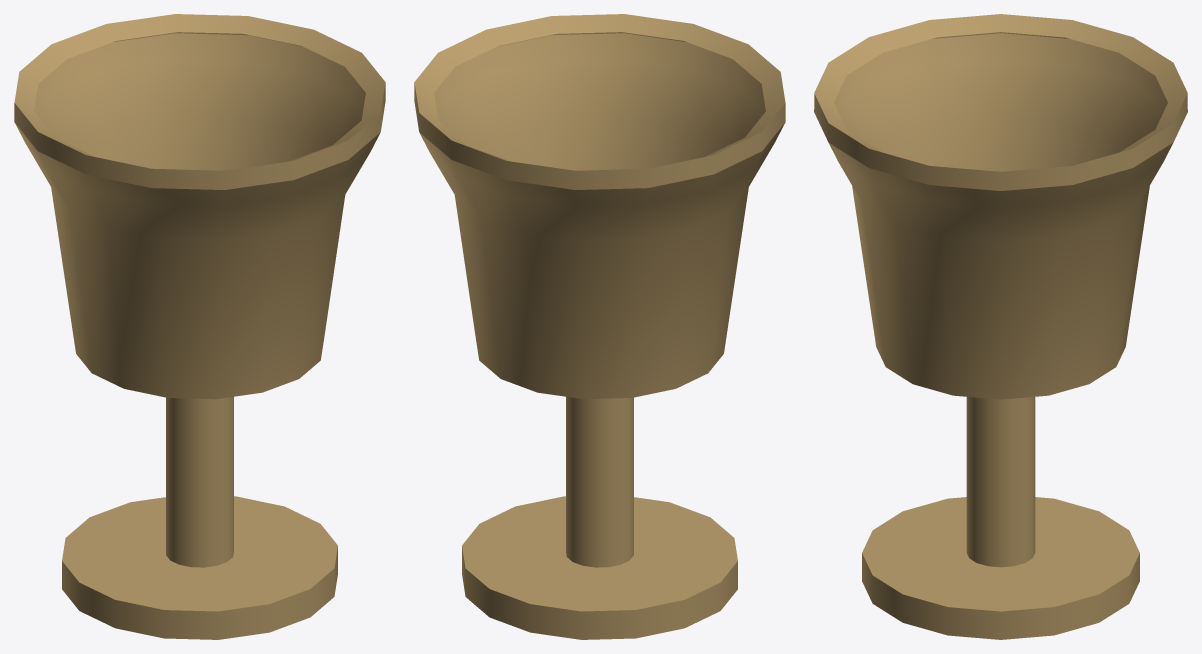
The model's file is cup.fbx.
The picture shows the model from 3 angles, left to right: view 1: azimuth 30°, elevation 25°; view 2: azimuth 150°, elevation 25°; view 3: azimuth 270°, elevation 25°; orthographic projection.
Parts seen in each view (by area): view 1: Circle; view 2: Circle; view 3: Circle.
Part boxes in pixels (bbox=[...]): Circle: bbox=[14, 14, 385, 639]; Circle: bbox=[414, 14, 785, 639]; Circle: bbox=[814, 14, 1187, 639].
Size of the model in its own units: 269 by 388 by 269.
